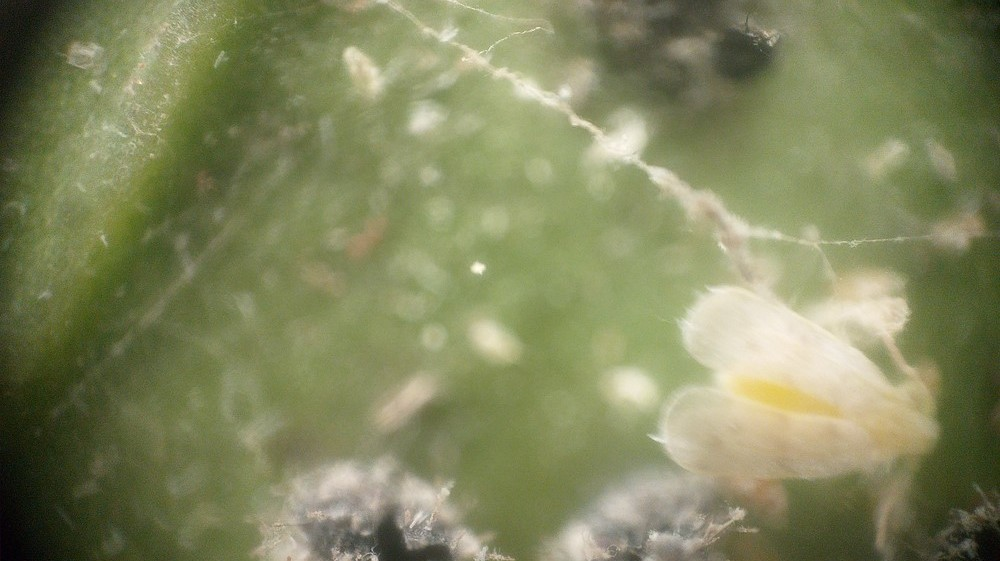Mosca Blanca: (649, 270, 962, 549)
